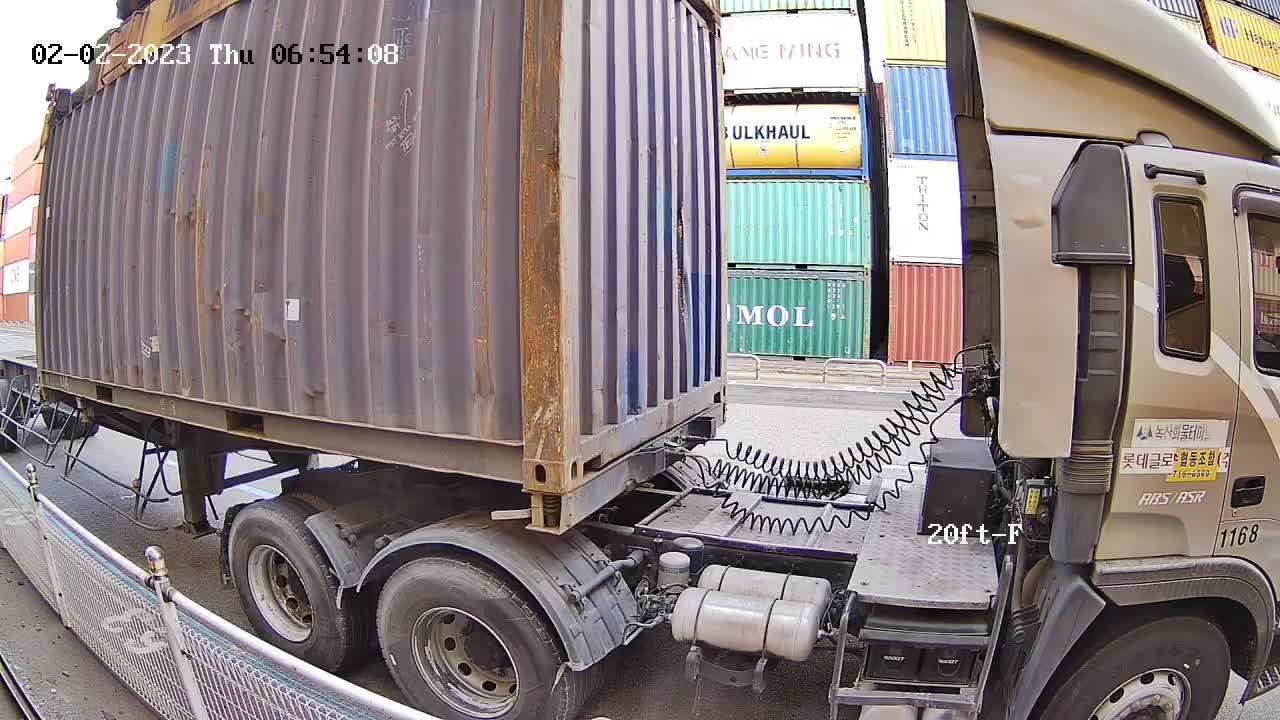Chassis: (525, 401, 728, 533)
Cone: (524, 488, 560, 532)
Hole_L: (562, 408, 607, 493)
Hole_R: (487, 419, 564, 495), (706, 366, 730, 406)
Tire: (377, 560, 566, 719), (230, 507, 345, 675)
